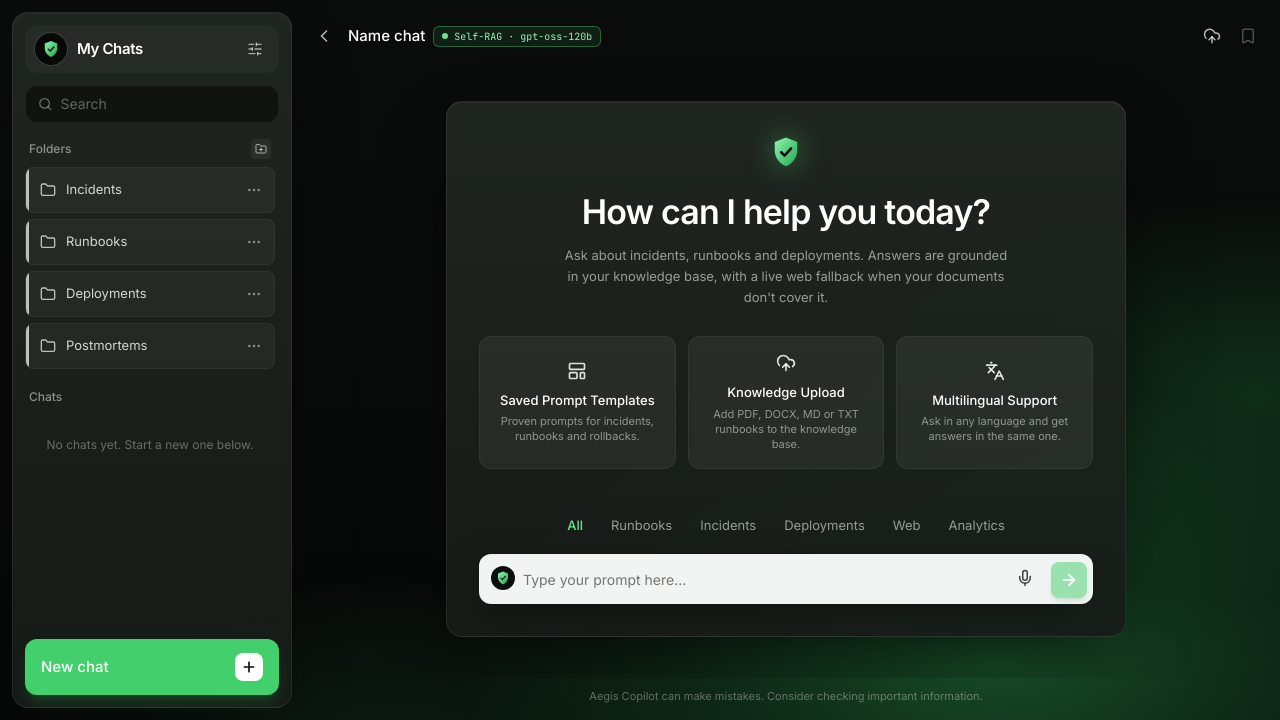
Test: ChatApp › streams an answer end to end
Type "Payments CPU is above 85%, what now?" into the text box named "Message". click: (761, 580)
box: top-left (523, 562), bottom-right (999, 598)
Then press Enter
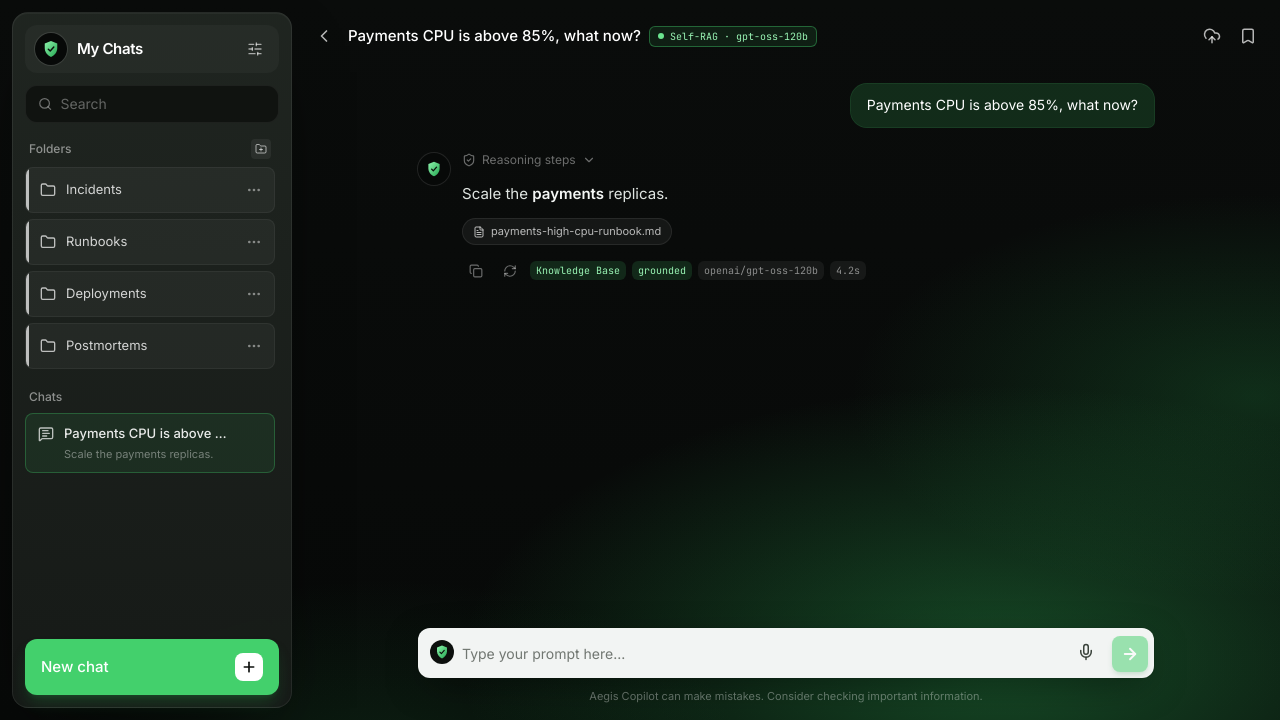
Result: the text "Payments CPU is above 85%, what now?" below "Folders" is shown at top-left (64, 425), bottom-right (279, 441)
Result: the text "payments" reads "Scale the payments replicas." at top-left (462, 184), bottom-right (668, 203)
Result: the text "4.2s" is shown at top-left (830, 261), bottom-right (866, 280)
